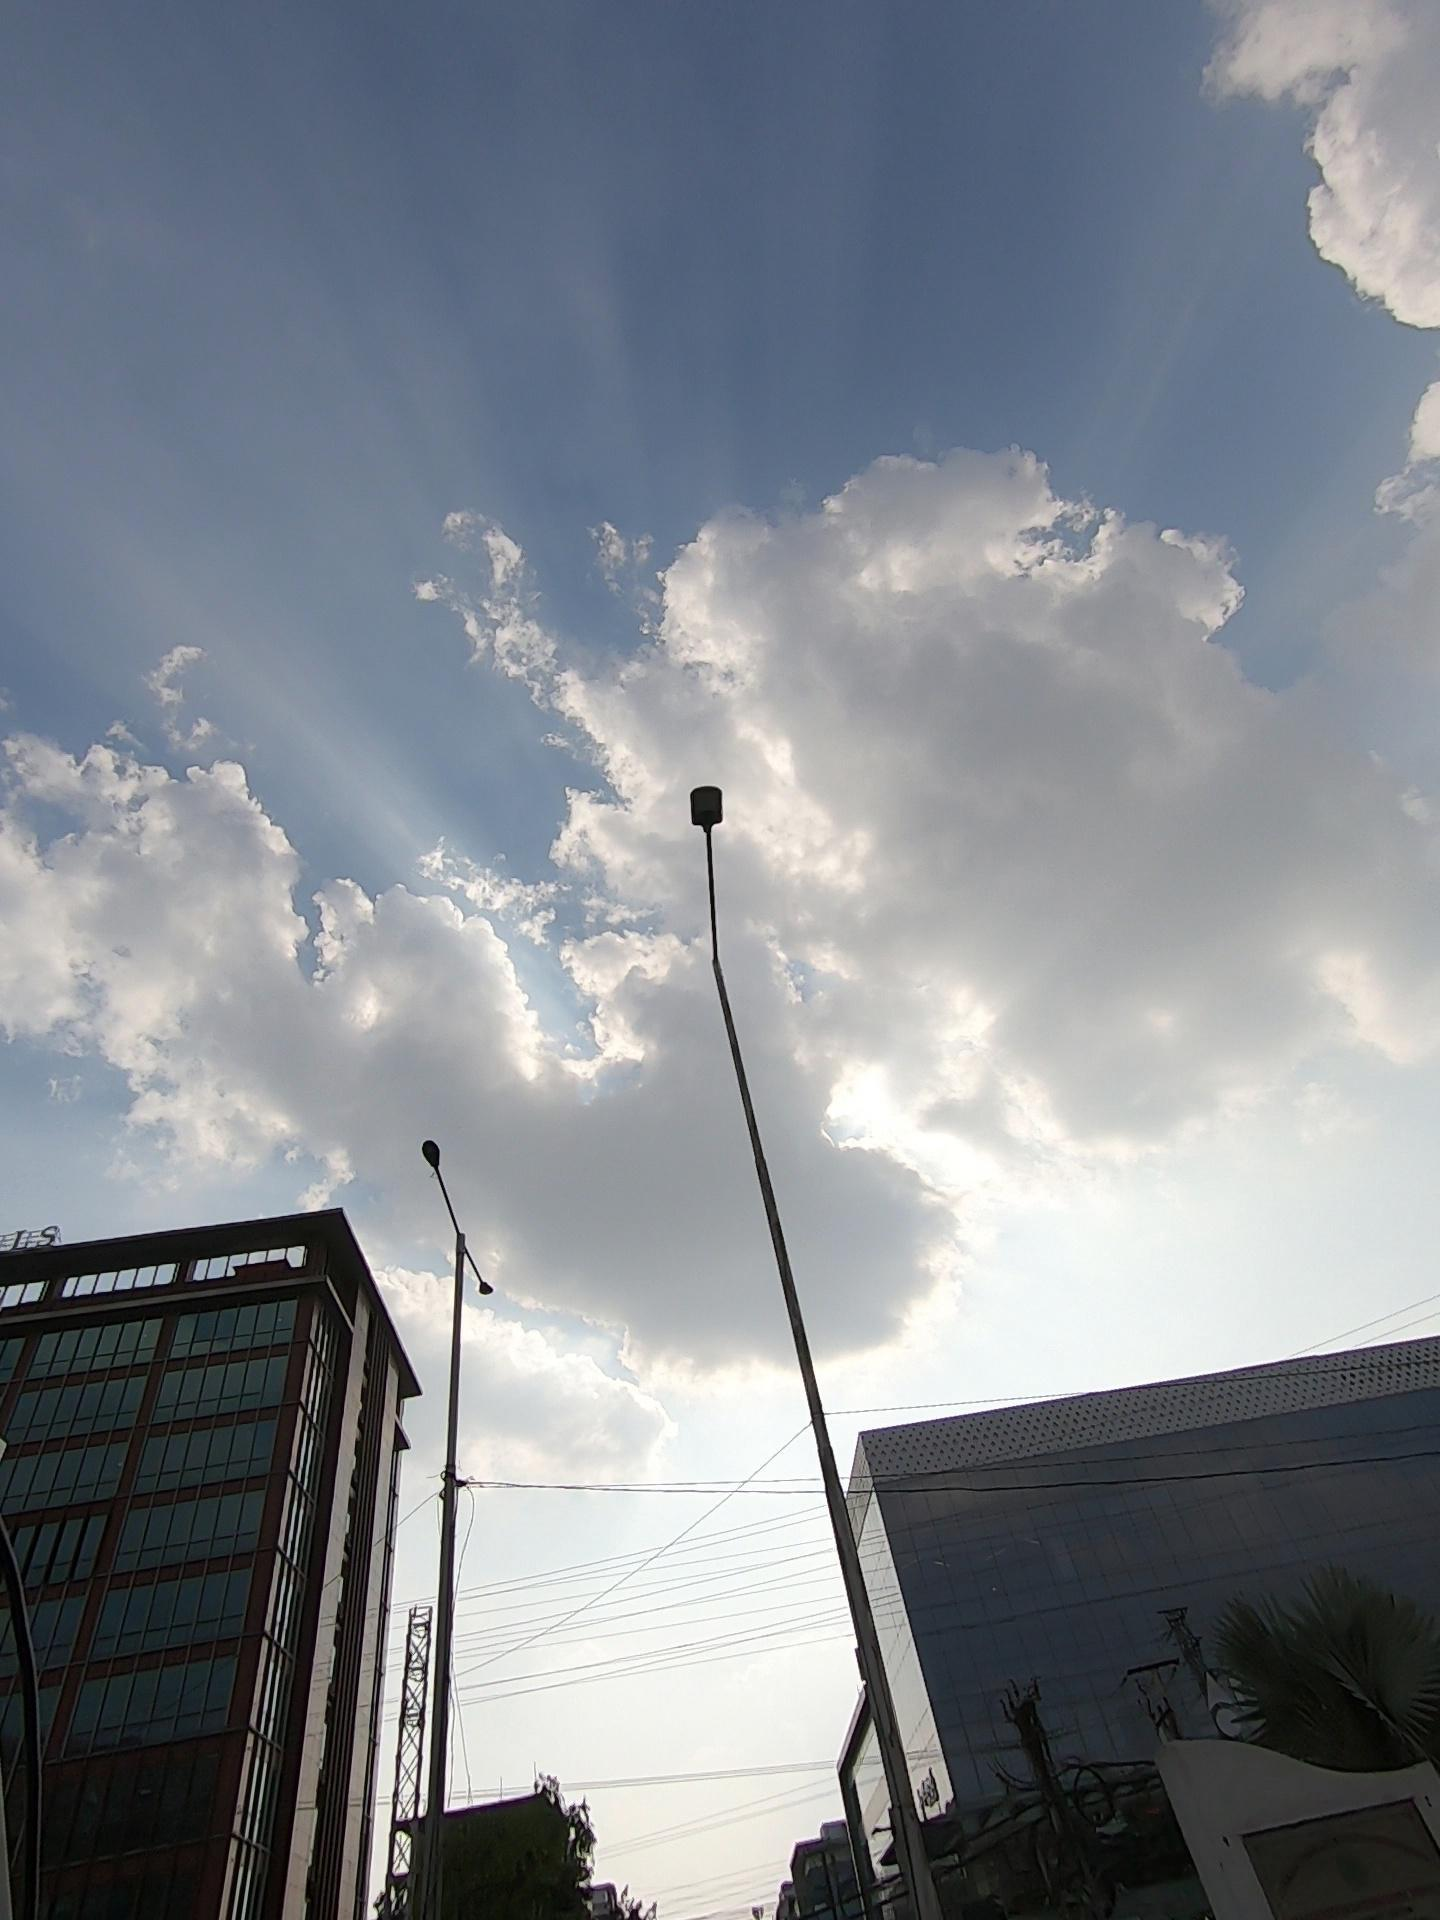off: (579, 671, 732, 1016), (399, 1036, 555, 1364)
